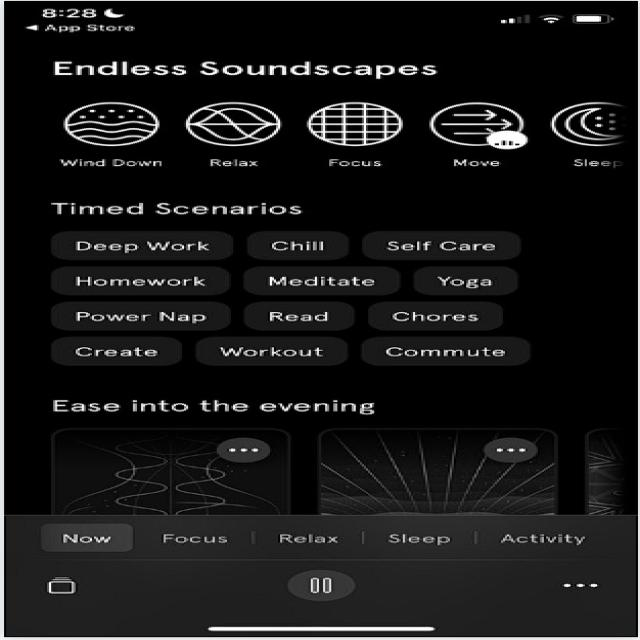icon button: (272, 565, 374, 608), (468, 424, 556, 473), (208, 429, 292, 474), (538, 572, 622, 611), (27, 570, 103, 606)
image: (36, 96, 190, 177), (287, 94, 430, 176)
row: (18, 187, 640, 368), (21, 381, 634, 511), (15, 90, 640, 186)
text: (24, 48, 454, 87), (30, 197, 344, 220), (33, 516, 134, 554), (152, 519, 252, 555), (363, 520, 465, 552), (494, 526, 608, 554), (270, 522, 348, 554)
